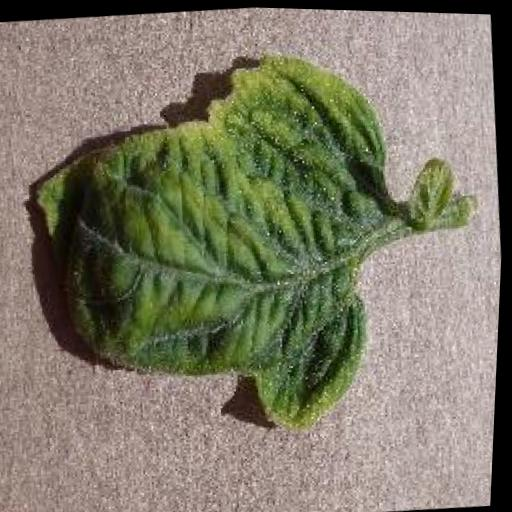Yellow Leaf Curl Virus: (18, 46, 415, 448)
